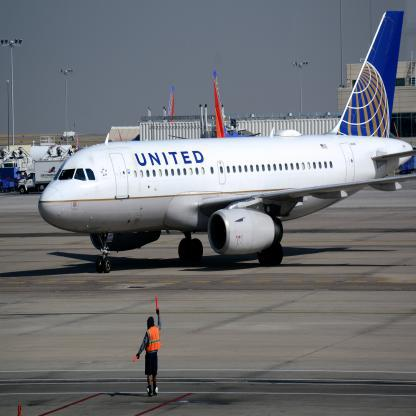CIV_Plane: (35, 6, 414, 272)
